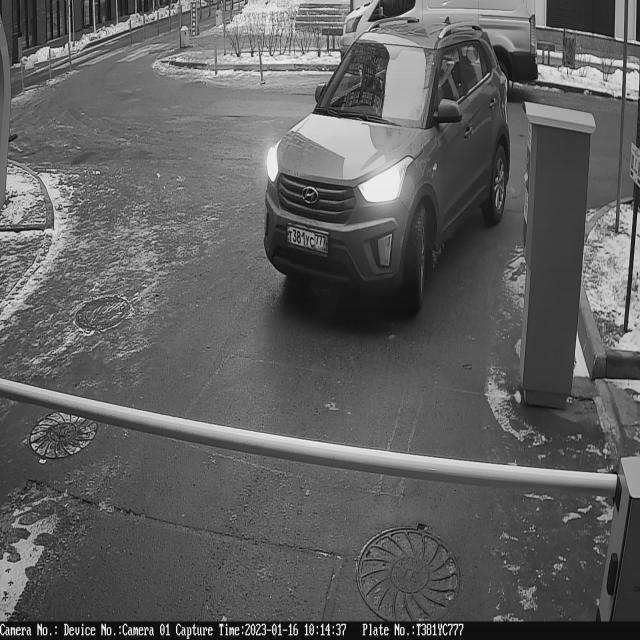car-plate-numbers: (284, 220, 333, 260)
